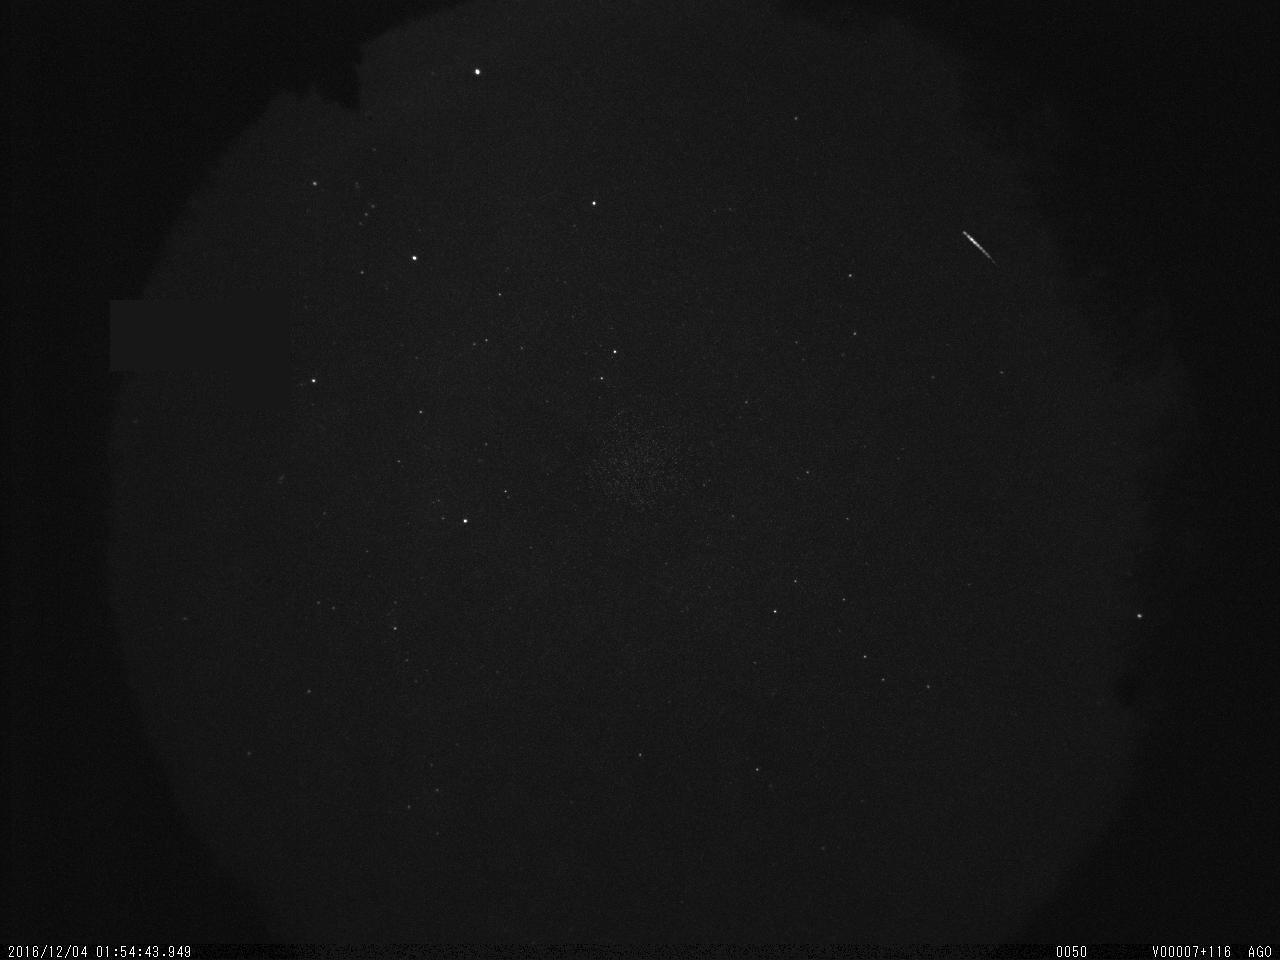meteor: (931, 202, 1018, 273)
